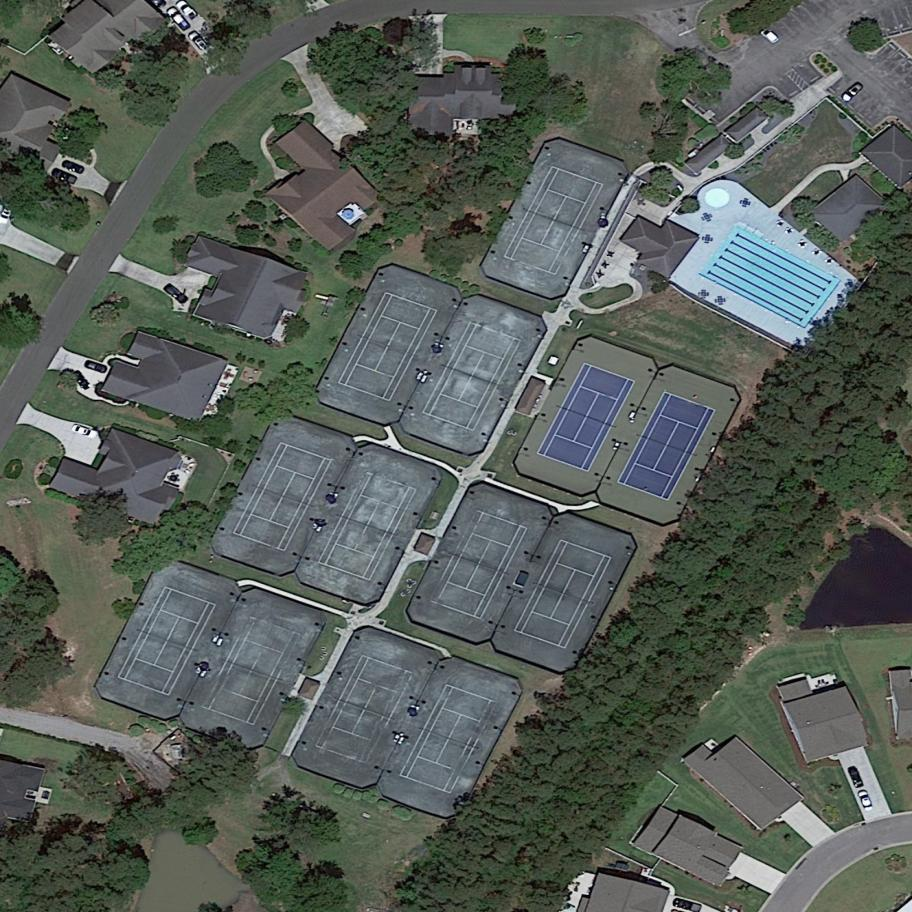small-vehicle: (163, 4, 193, 35), (162, 281, 190, 308), (186, 28, 212, 54), (839, 79, 865, 105), (49, 165, 78, 188), (69, 367, 93, 393), (175, 0, 199, 23), (69, 422, 99, 440), (61, 158, 87, 177), (856, 789, 874, 814), (847, 765, 865, 790), (83, 359, 109, 376), (760, 24, 781, 43)
